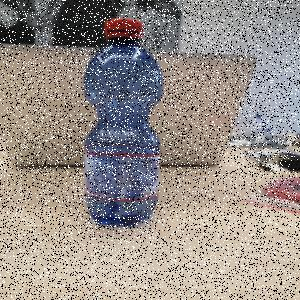Plastic-bottle: (83, 19, 166, 229)
